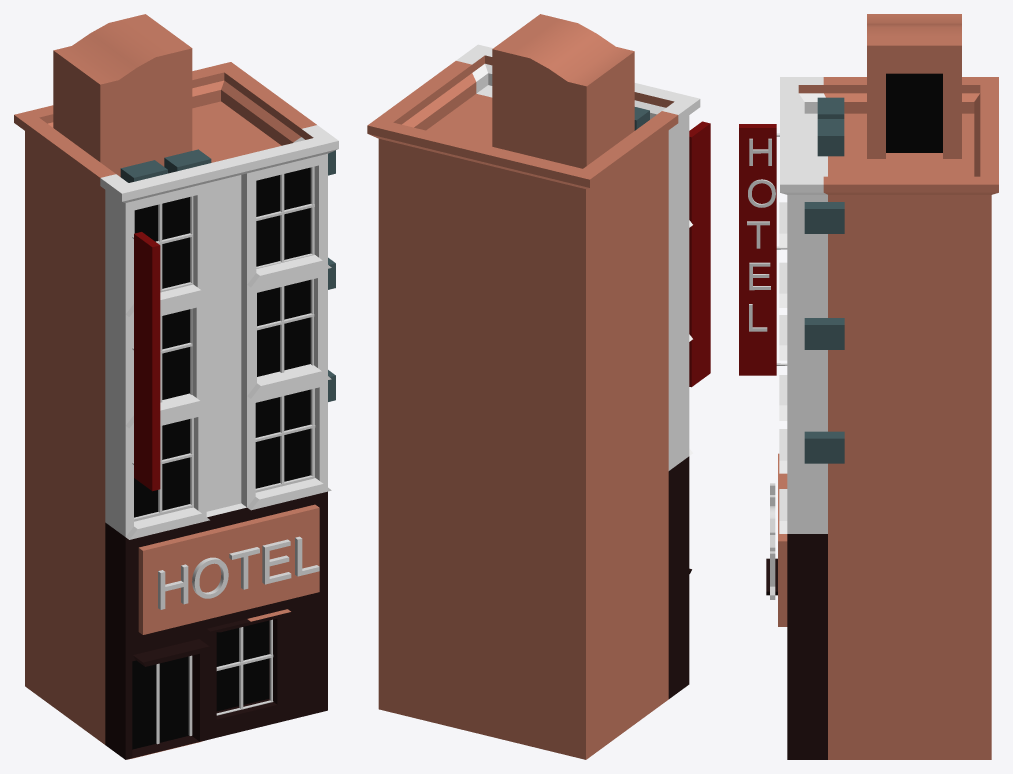
The model's file is Hotel.fbx.
3 views of the same model, side by side, from view 1: azimuth 30°, elevation 25°; view 2: azimuth 150°, elevation 25°; view 3: azimuth 270°, elevation 25° (orthographic). The views are drawn at different scales.
Parts seen in each view (by area): view 1: Box119, Box140, Text001, Box138, Box137; view 2: Box119, Box140; view 3: Box119, Box140, Text002, Box122, Box121, Box120, Box138, Text001, Box137.
Boxes of the visible parts, x1,y1,x2,y2 form: Box119: (14,14,338,759); Box140: (134,232,160,491); Text001: (158,536,319,609); Box138: (164,149,211,173); Box137: (120,160,167,182); Box119: (367,14,700,759); Box140: (689,121,710,387); Box119: (766,14,998,759); Box140: (739,124,776,375); Text002: (747,138,775,331); Box122: (804,431,844,463); Box121: (804,318,844,349); Box120: (804,202,844,233); Box138: (817,119,844,156); Text001: (770,483,775,599); Box137: (817,97,844,118).
Bounding box in the file's own units: 50.2 × 139 × 49.19.
